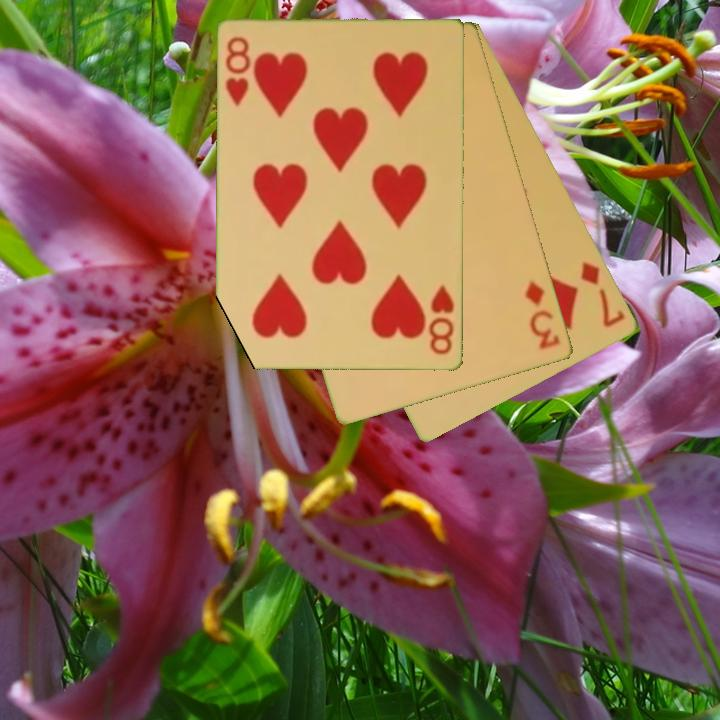3d: (521, 278, 564, 353)
7d: (577, 258, 629, 331)
8h: (426, 282, 457, 358), (222, 34, 253, 110)
